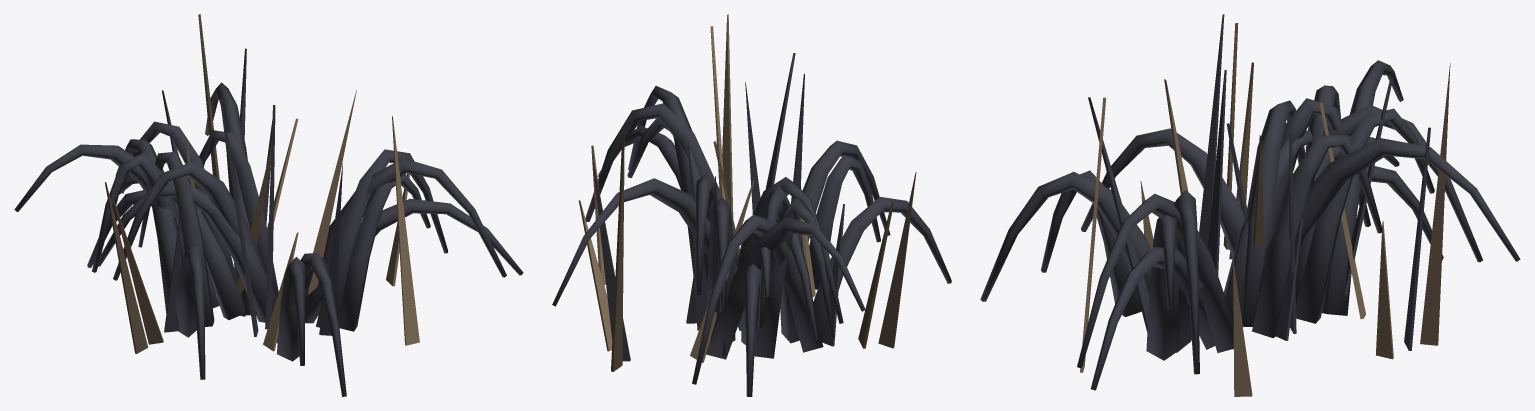
Rendered from bramble_b.glb.
3 renders of one model, left to right at view 1: azimuth 30°, elevation 25°; view 2: azimuth 150°, elevation 25°; view 3: azimuth 270°, elevation 25°, orthographic. The views are drawn at different scales.
Visible parts, largest first — view 1: bramble_b; view 2: bramble_b; view 3: bramble_b.
Boxes of the visible parts, x1=… form: bramble_b: x1=14, y1=14, x2=523, y2=396; bramble_b: x1=552, y1=14, x2=951, y2=396; bramble_b: x1=980, y1=14, x2=1520, y2=396.
Size of the model in its own units: 0.689 by 0.4178 by 0.7147.
